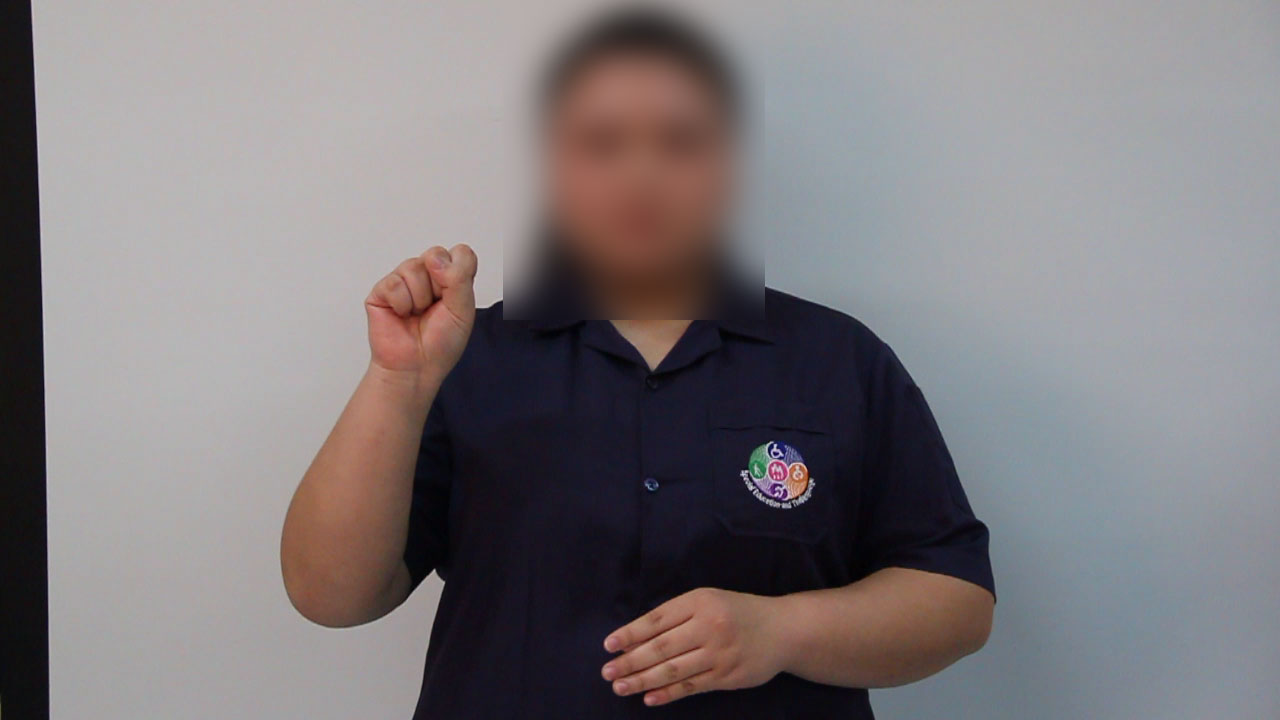sor: (355, 227, 487, 380)
